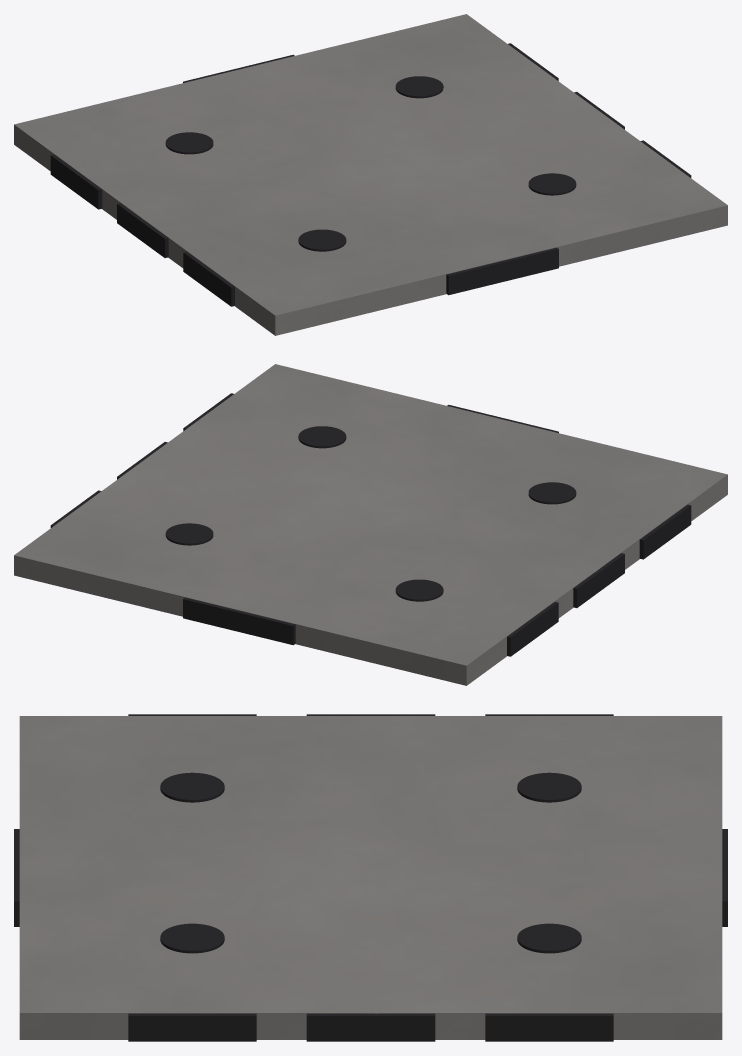
File: rover14_deck_plate_1x1.glb
The picture shows the model from 3 angles, top to bottom: view 1: azimuth 30°, elevation 25°; view 2: azimuth 150°, elevation 25°; view 3: azimuth 270°, elevation 25°; orthographic projection. The views are drawn at different scales.
Parts seen in each view (by area): view 1: plate, hardpoints, sockets_top, end_hardpoints; view 2: plate, hardpoints, sockets_top, end_hardpoints; view 3: plate, hardpoints, sockets_top, end_hardpoints.
Boxes of the visible parts, box(x1,y1,x2,y2) form: plate: box(14, 14, 727, 335); hardpoints: box(50, 43, 691, 306); sockets_top: box(165, 76, 576, 251); end_hardpoints: box(183, 54, 558, 295); plate: box(14, 364, 727, 685); hardpoints: box(50, 393, 691, 656); sockets_top: box(165, 426, 576, 601); end_hardpoints: box(183, 404, 558, 645); plate: box(19, 716, 722, 1039); hardpoints: box(128, 714, 613, 1041); sockets_top: box(160, 772, 581, 953); end_hardpoints: box(14, 829, 727, 926).
Bounding box in the file's own units: 1 × 0.05 × 1.
Materials: 3 (2 with a texture image).
